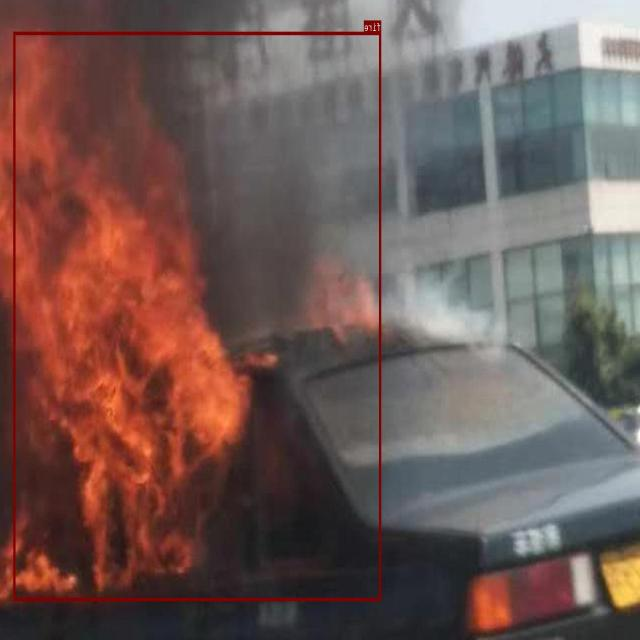fire: (14, 31, 382, 600)
